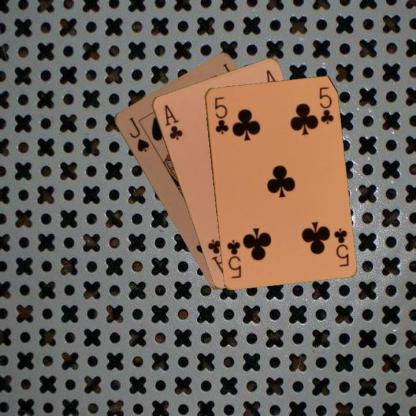5c: (331, 225, 350, 268), (211, 94, 230, 136)
Ac: (161, 102, 184, 142)
Js: (126, 114, 151, 154)
